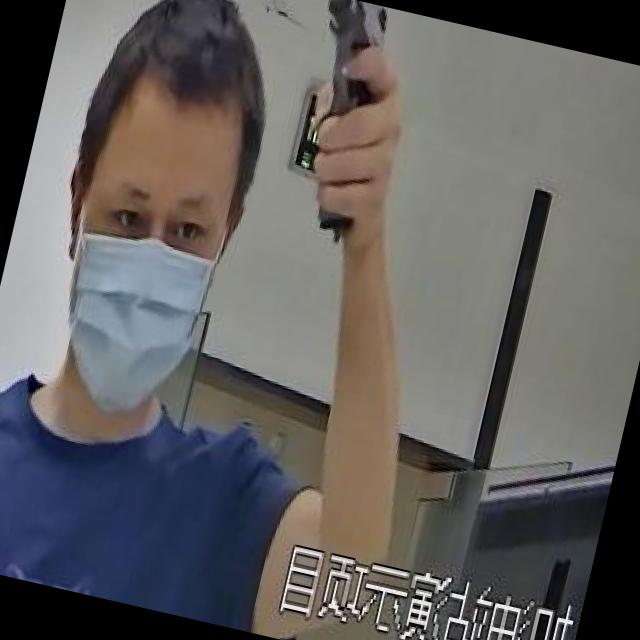Guns: (242, 0, 427, 261)
